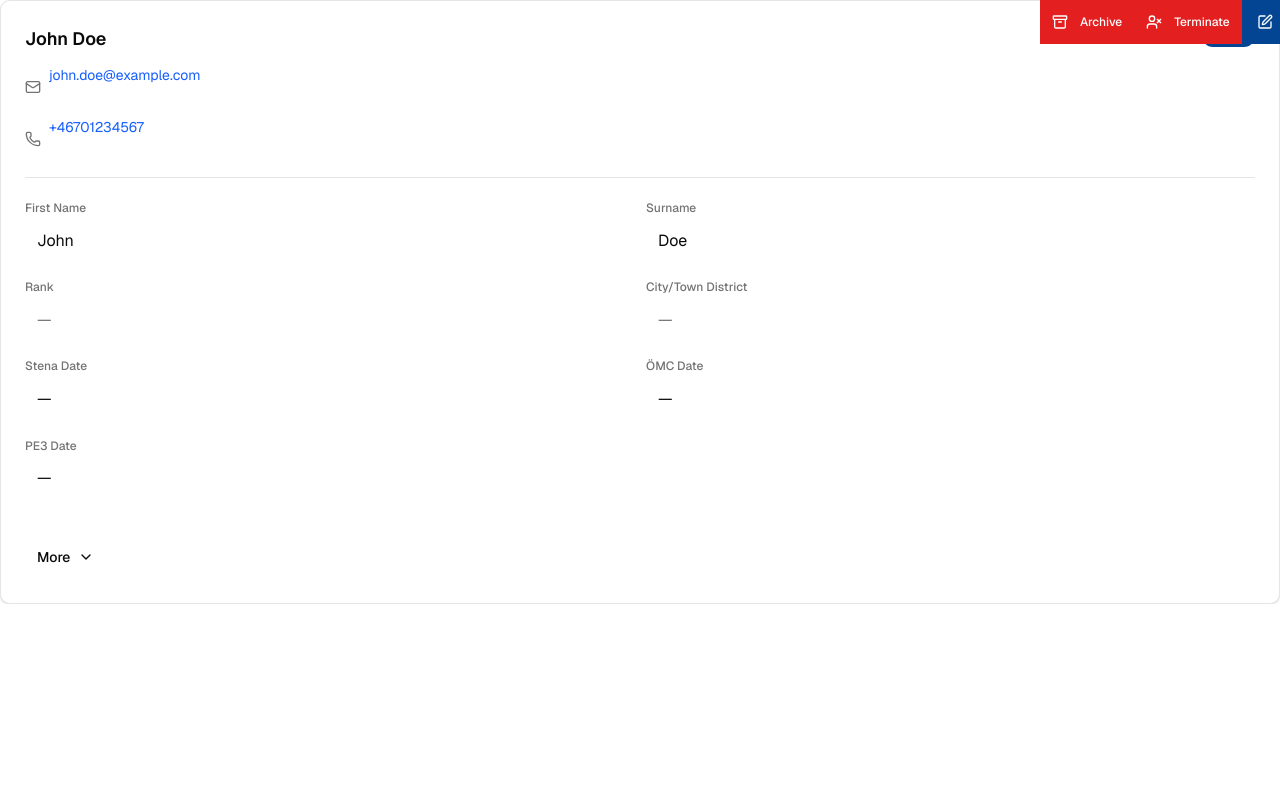
Test: Mobile Quick Actions Integration (Story 12.6) › Long-press Context Menu Workflow › should show context menu after long-press on employee card
Press the mouse on the text "John Doe" at (640, 302), box [0,0,1279,604]
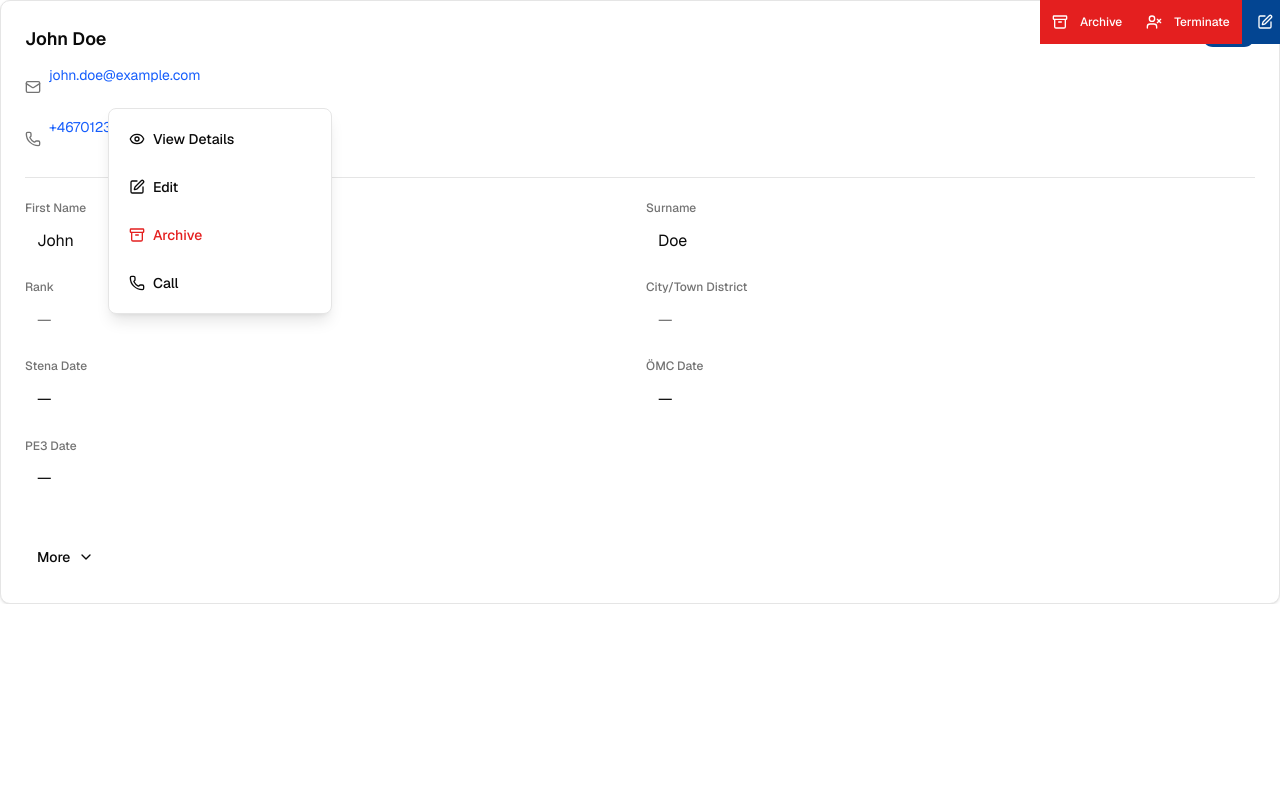
Check: the button "View Details" is shown, box [117,117,323,161]
